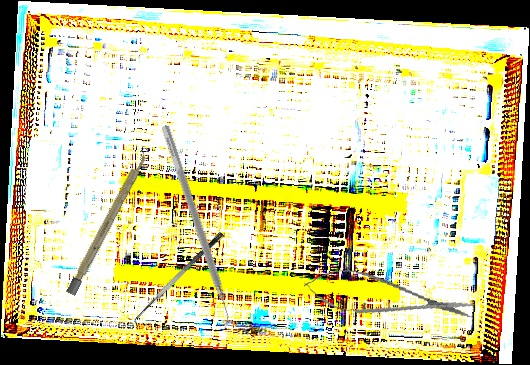Micro Scissor: (300, 262, 478, 333)
Scalpel Handle: (66, 150, 150, 296)
Spatula Surgical: (152, 124, 239, 331), (128, 230, 232, 329)
